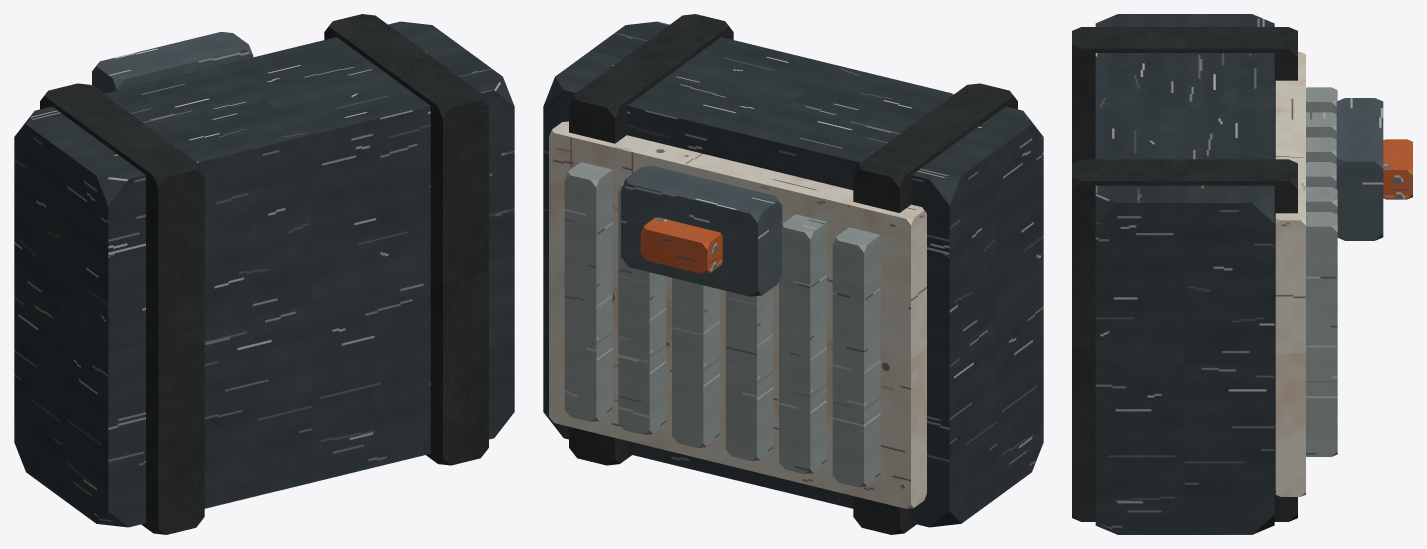
File: field_kit_3.glb
3 renders of one model, left to right at view 1: azimuth 30°, elevation 25°; view 2: azimuth 150°, elevation 25°; view 3: azimuth 270°, elevation 25°, orthographic. The views are drawn at different scales.
Parts seen in each view (by area): view 1: spare_battery_core_graphite, battery_crash_corner_0.077_black_rubber, battery_crash_corner_-0.077_black_rubber, battery_connector_dark_alloy; view 2: spare_battery_core_graphite, battery_front_panel_white_painted, battery_connector_dark_alloy, battery_heat_sink_0_alloy, battery_heat_sink_5_alloy, battery_heat_sink_1_alloy, battery_crash_corner_-0.077_black_rubber, battery_crash_corner_0.077_black_rubber, battery_heat_sink_4_alloy, battery_heat_sink_2_alloy, battery_heat_sink_3_alloy, battery_key_orange; view 3: spare_battery_core_graphite, battery_crash_corner_0.077_black_rubber, battery_front_panel_white_painted, battery_crash_corner_-0.077_black_rubber, battery_heat_sink_5_alloy, battery_connector_dark_alloy, battery_key_orange, battery_heat_sink_0_alloy, battery_heat_sink_4_alloy, battery_heat_sink_1_alloy, battery_heat_sink_2_alloy, battery_heat_sink_3_alloy.
Part boxes in pixels (bbox=[...]): spare_battery_core_graphite: bbox=[14, 21, 514, 527]; battery_crash_corner_0.077_black_rubber: bbox=[324, 14, 488, 465]; battery_crash_corner_-0.077_black_rubber: bbox=[40, 83, 204, 534]; battery_connector_dark_alloy: bbox=[92, 31, 253, 93]; spare_battery_core_graphite: bbox=[543, 21, 1043, 527]; battery_front_panel_white_painted: bbox=[549, 121, 926, 508]; battery_connector_dark_alloy: bbox=[621, 166, 782, 296]; battery_heat_sink_0_alloy: bbox=[832, 227, 880, 487]; battery_heat_sink_5_alloy: bbox=[564, 162, 612, 421]; battery_heat_sink_1_alloy: bbox=[779, 214, 826, 474]; battery_crash_corner_-0.077_black_rubber: bbox=[853, 83, 1017, 534]; battery_crash_corner_0.077_black_rubber: bbox=[569, 14, 733, 465]; battery_heat_sink_4_alloy: bbox=[618, 183, 666, 434]; battery_heat_sink_2_alloy: bbox=[725, 287, 773, 460]; battery_heat_sink_3_alloy: bbox=[672, 278, 719, 447]; battery_key_orange: bbox=[640, 217, 722, 273]; spare_battery_core_graphite: bbox=[1095, 14, 1274, 534]; battery_crash_corner_0.077_black_rubber: bbox=[1072, 159, 1297, 521]; battery_front_panel_white_painted: bbox=[1275, 52, 1305, 496]; battery_crash_corner_-0.077_black_rubber: bbox=[1072, 27, 1297, 162]; battery_heat_sink_5_alloy: bbox=[1306, 212, 1337, 456]; battery_connector_dark_alloy: bbox=[1336, 98, 1383, 240]; battery_key_orange: bbox=[1383, 139, 1412, 199]; battery_heat_sink_0_alloy: bbox=[1306, 87, 1337, 114]; battery_heat_sink_4_alloy: bbox=[1306, 187, 1337, 214]; battery_heat_sink_1_alloy: bbox=[1306, 112, 1336, 139]; battery_heat_sink_2_alloy: bbox=[1306, 137, 1336, 164]; battery_heat_sink_3_alloy: bbox=[1306, 162, 1336, 188].
Size of the model in its own units: 0.22 by 0.185 by 0.1675.
6 materials, 6 textured.
